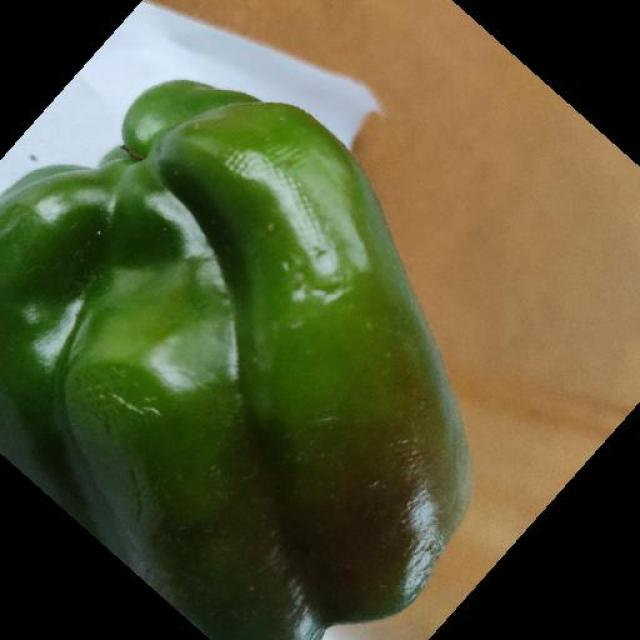Stale_Capsicum: (160, 386, 495, 640)
